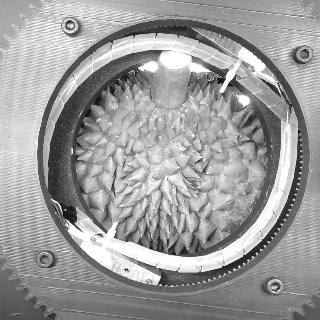base: (143, 85, 190, 117)
end: (158, 49, 193, 70)
